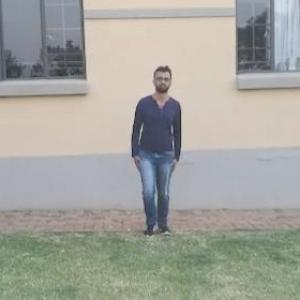follow: (130, 63, 183, 236)
